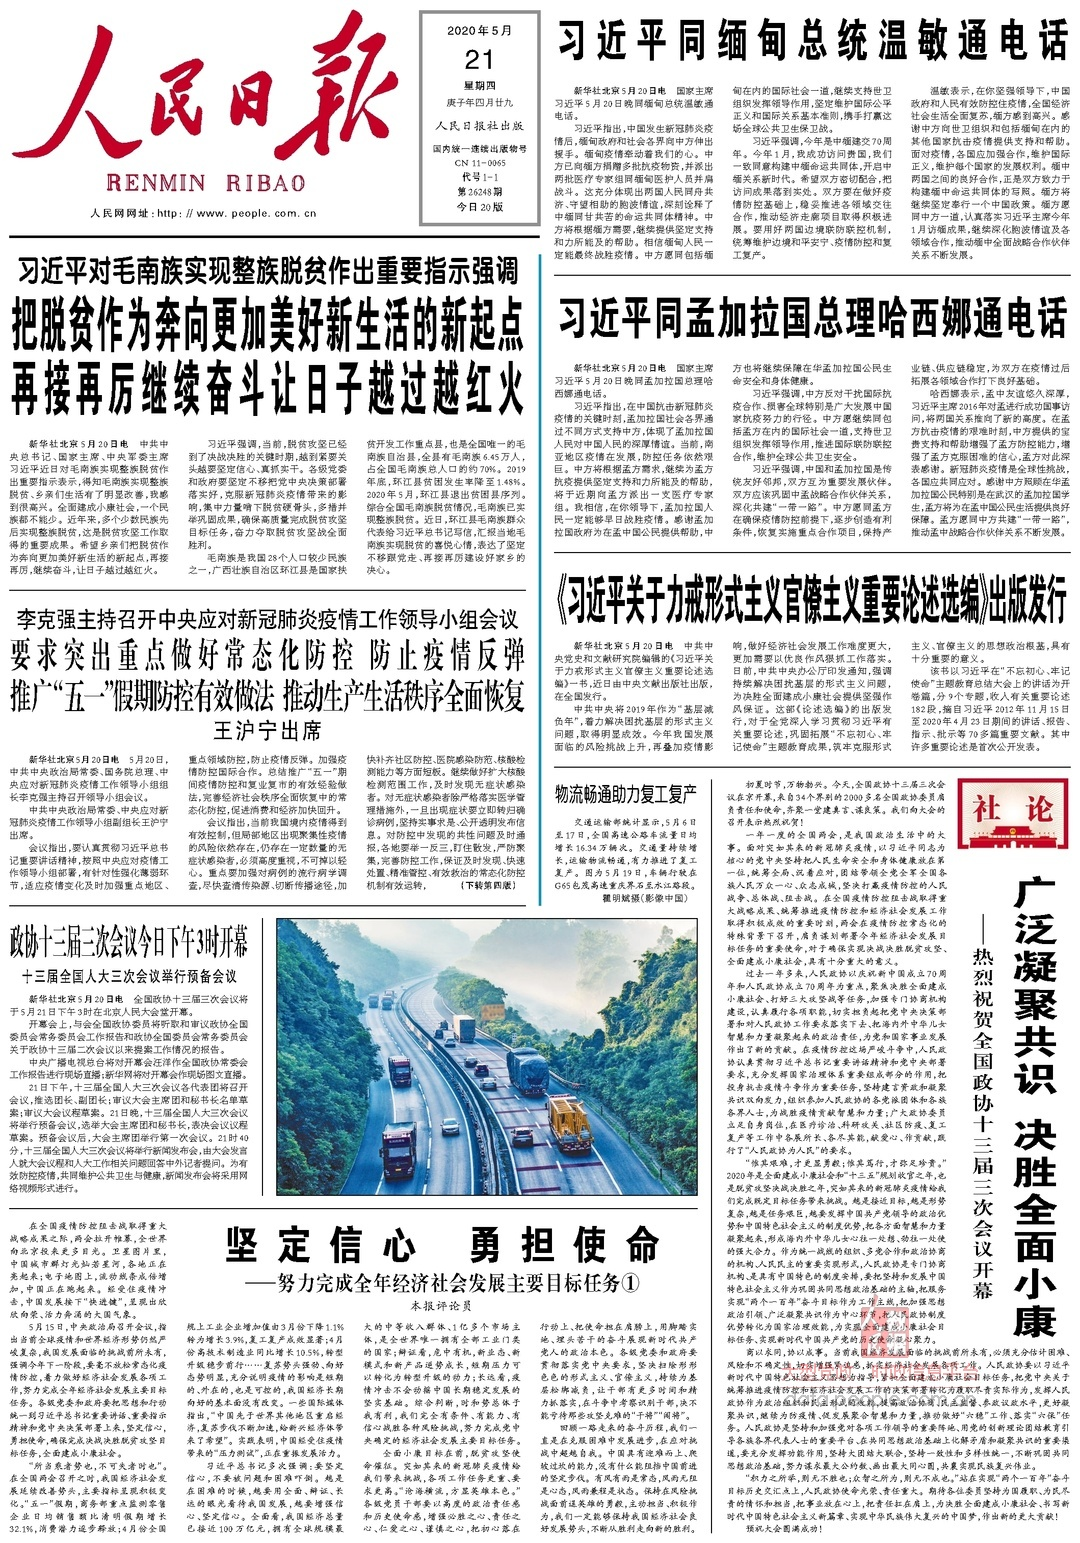pic: (271, 912, 706, 1204)
